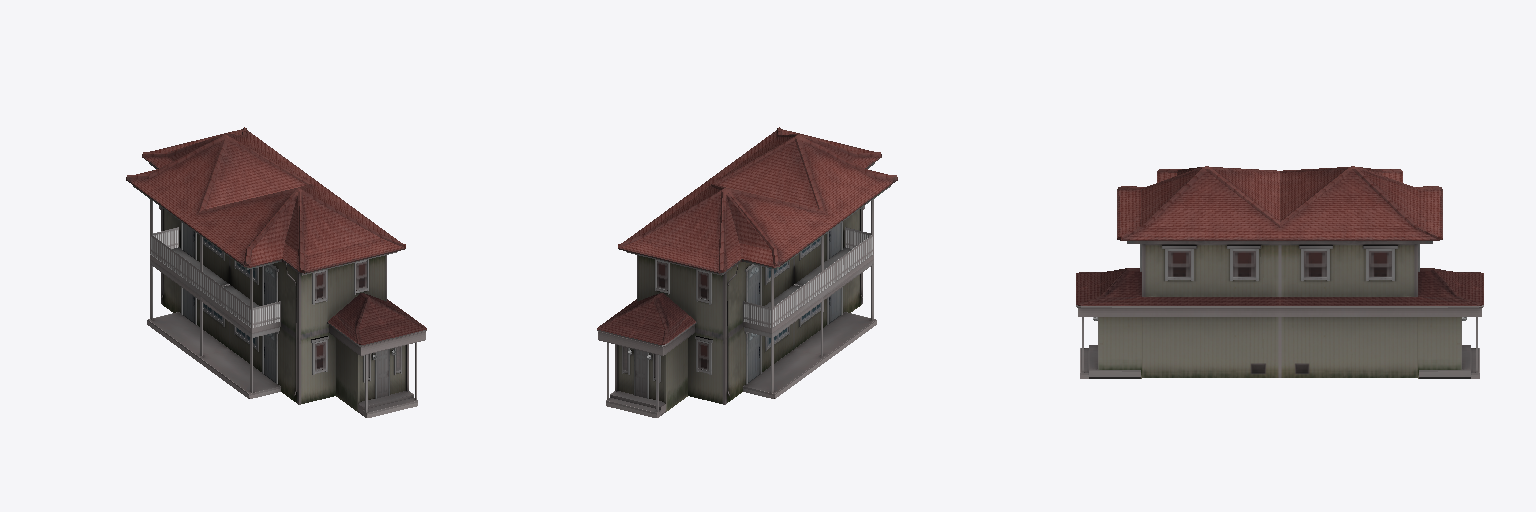
3 views of the same model, side by side, from view 1: azimuth 30°, elevation 25°; view 2: azimuth 150°, elevation 25°; view 3: azimuth 270°, elevation 25° (orthographic).
Visible parts, largest first — view 1: City_building_038; view 2: City_building_038; view 3: City_building_038.
Part boxes in pixels (bbox=[...]): City_building_038: bbox=[126, 127, 426, 417]; City_building_038: bbox=[597, 127, 897, 417]; City_building_038: bbox=[1076, 166, 1483, 378].
Bounding box in the file's own units: 6.65 × 8.31 × 16.67.
1 materials, 1 textured.